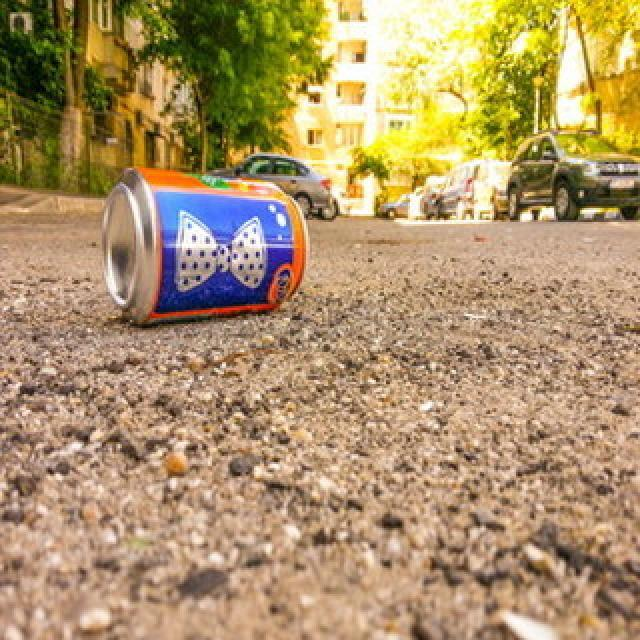can: (101, 164, 306, 316)
